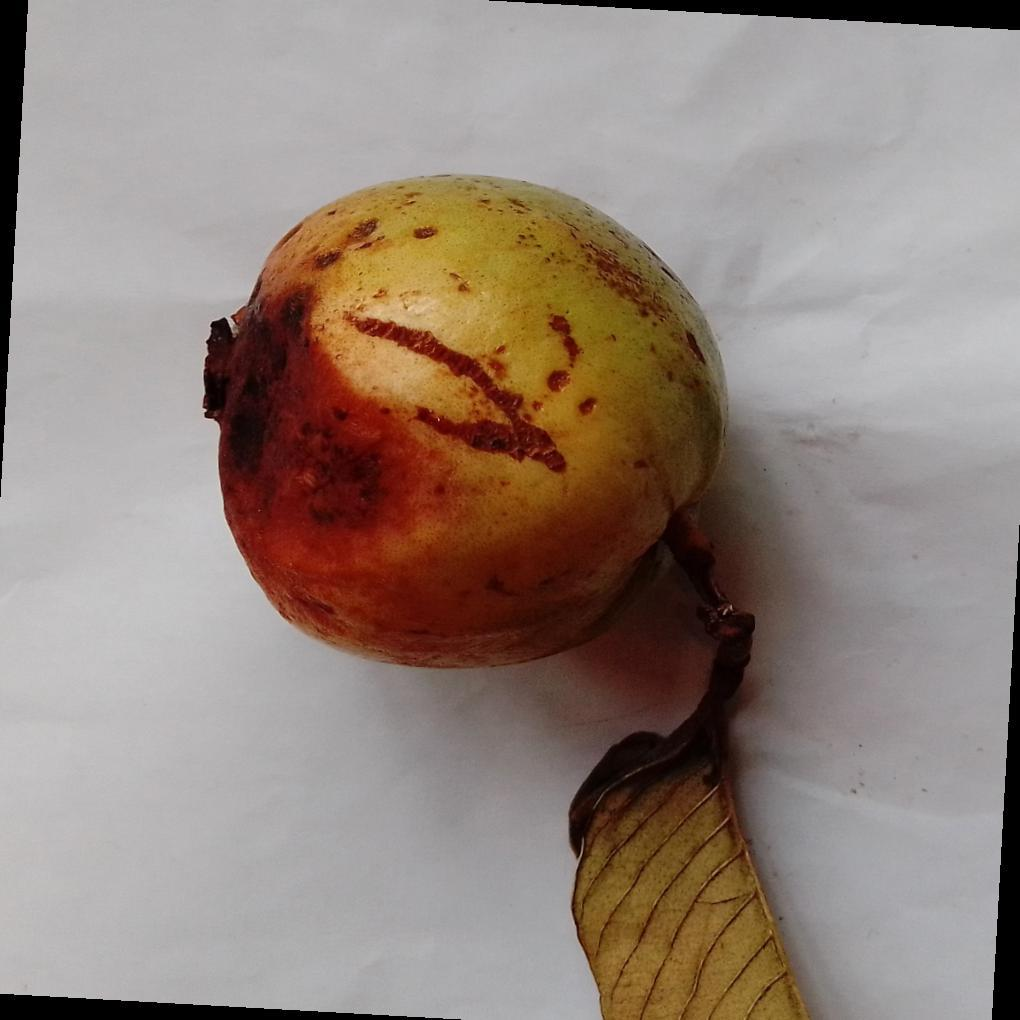FreshOrange: (201, 175, 725, 674)
